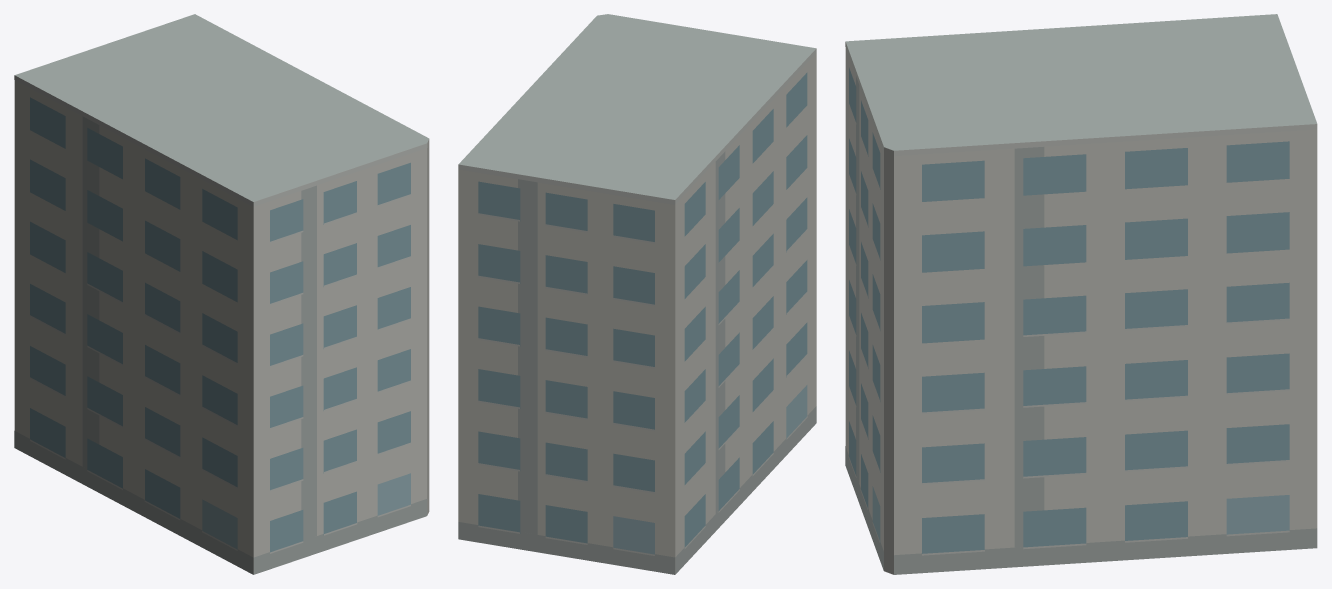
The model's file is survey-upis-32978851.glb.
The picture shows the model from 3 angles, left to right: view 1: azimuth 30°, elevation 25°; view 2: azimuth 150°, elevation 25°; view 3: azimuth 270°, elevation 25°; orthographic projection. The views are drawn at different scales.
Visible parts, largest first — view 1: survey-upis-32978851.tmp; view 2: survey-upis-32978851.tmp; view 3: survey-upis-32978851.tmp.
Part boxes in pixels (x1=…): survey-upis-32978851.tmp: x1=14, y1=14, x2=429, y2=574; survey-upis-32978851.tmp: x1=458, y1=14, x2=816, y2=574; survey-upis-32978851.tmp: x1=845, y1=14, x2=1317, y2=574.
Bounding box in the file's own units: 12.94 × 18.7 × 18.87.
